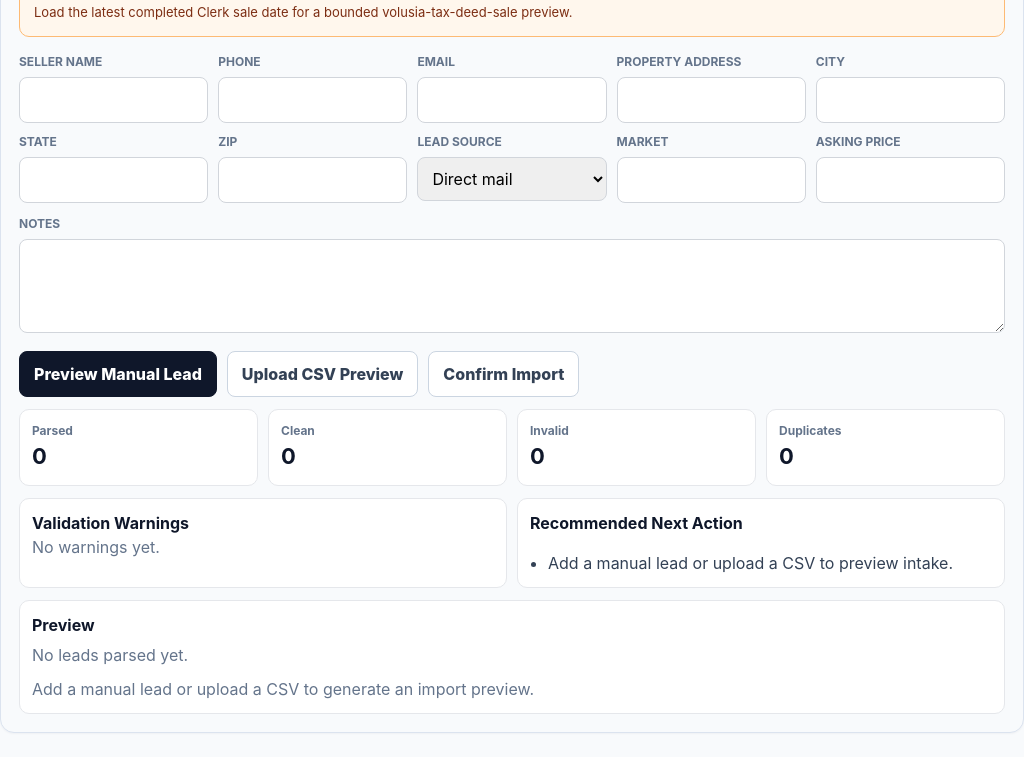
it: LeadImporter durable confirmation › does not write during preview and persists only after explicit confirmation
(page scrolled)
Click the button "Preview Manual Lead".
click(118, 374)  # box [19,351,217,397]
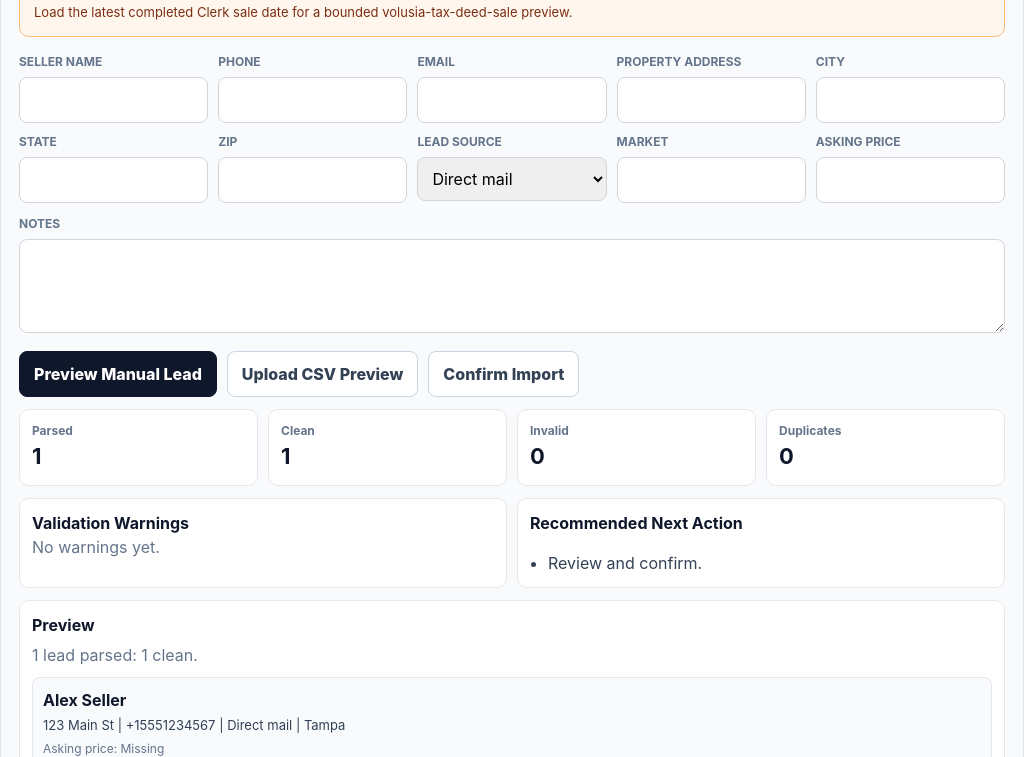
Click the button "Confirm Import".
click(504, 374)  # box [428,351,579,397]
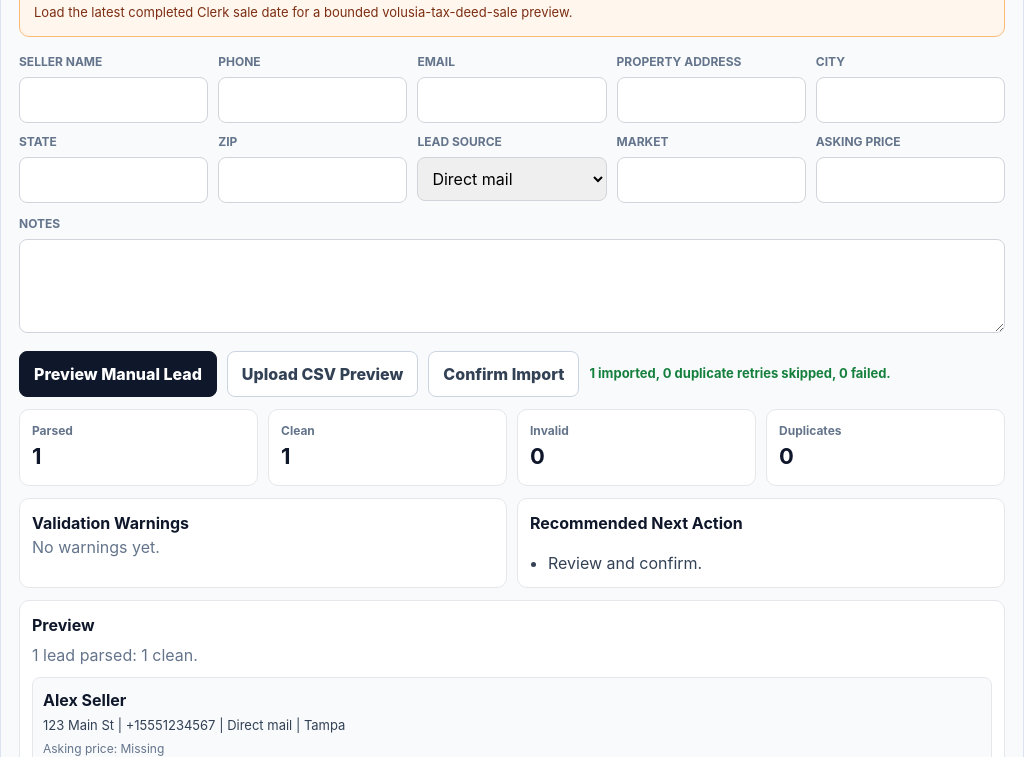
Now the text "1 imported, 0 duplicate retries skipped, 0 failed." is shown, box [589,364,891,384]
